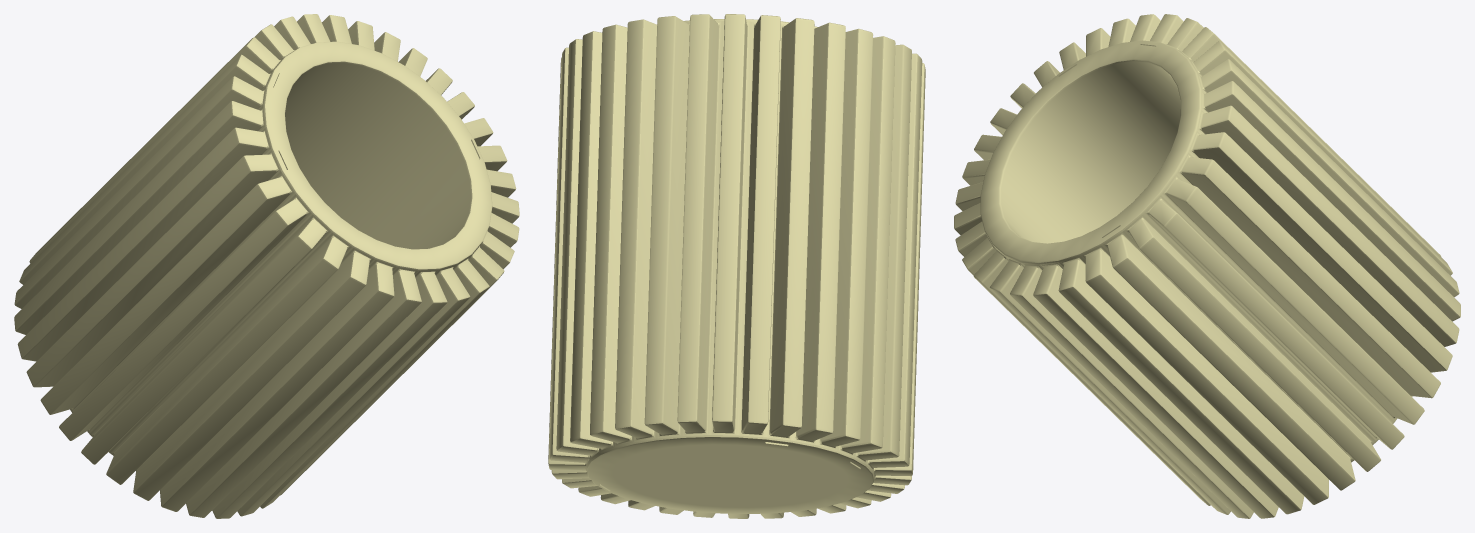
The model's file is figure-4.glb.
3 views of the same model, side by side, from view 1: azimuth 30°, elevation 25°; view 2: azimuth 150°, elevation 25°; view 3: azimuth 270°, elevation 25° (orthographic). The views are drawn at different scales.
Visible parts, largest first — view 1: Cylinder.004; view 2: Cylinder.004; view 3: Cylinder.004.
Boxes of the visible parts, x1,y1,x2,y2 form: Cylinder.004: (14, 14, 519, 518); Cylinder.004: (548, 14, 925, 518); Cylinder.004: (954, 14, 1460, 518).
Bounding box in the file's own units: 4.76 × 5.61 × 5.44.
